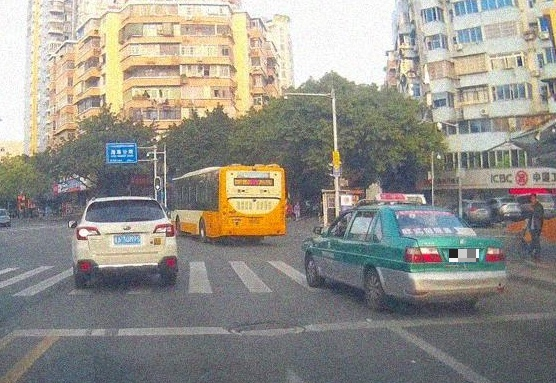L_light: (404, 245, 443, 263), (75, 226, 101, 241), (221, 206, 227, 224)
R_light: (153, 222, 176, 237), (484, 246, 506, 261), (280, 207, 285, 222)
T_light: (425, 210, 440, 214), (249, 182, 260, 185), (118, 200, 133, 202)
day-left: (71, 196, 178, 285)
day-no: (388, 204, 508, 312), (218, 164, 286, 243)
plate_1: (449, 249, 479, 262)
